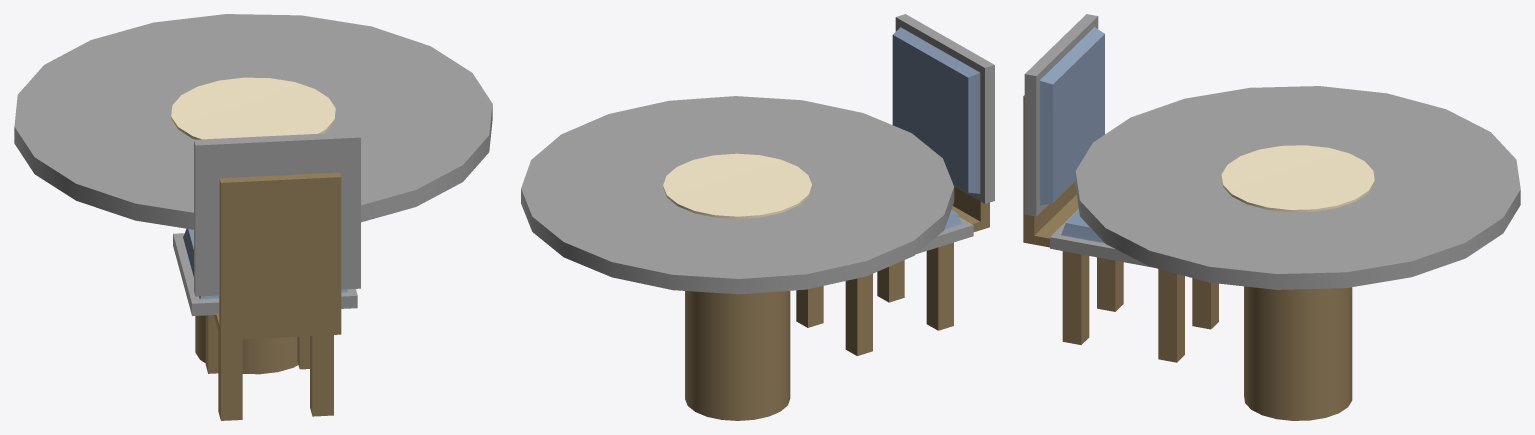
File: M_Mesa de Comedor.fbx
3 views of the same model, side by side, from view 1: azimuth 30°, elevation 25°; view 2: azimuth 150°, elevation 25°; view 3: azimuth 270°, elevation 25° (orthographic). The views are drawn at different scales.
Visible parts, largest first — view 1: pCylinder5, pCube38, Silla_comedor, pCube41, pCube36, pCube40, pCube42; view 2: pCylinder5, Silla_comedor, pCube41, pCube42, pCube39, pCube38, pCube40, pCube36; view 3: pCylinder5, Silla_comedor, pCube40, pCube39, pCube38, pCube36, pCube41, pCube42.
Part boxes in pixels (<box>): pCylinder5: <box>14,14,492,374</box>; pCube38: <box>214,172,341,340</box>; Silla_comedor: <box>194,131,360,296</box>; pCube41: <box>218,332,242,420</box>; pCube36: <box>173,228,357,315</box>; pCube40: <box>310,335,333,416</box>; pCube42: <box>205,315,218,373</box>; pCylinder5: <box>521,96,954,420</box>; Silla_comedor: <box>892,14,994,203</box>; pCube41: <box>926,242,953,330</box>; pCube42: <box>845,274,872,355</box>; pCube39: <box>796,286,823,327</box>; pCube38: <box>951,186,989,231</box>; pCube40: <box>877,260,904,302</box>; pCube36: <box>917,209,973,253</box>; pCylinder5: <box>1075,86,1520,420</box>; Silla_comedor: <box>1024,14,1104,216</box>; pCube40: <box>1062,251,1089,344</box>; pCube39: <box>1158,269,1184,362</box>; pCube38: <box>1023,95,1078,247</box>; pCube36: <box>1050,209,1152,267</box>; pCube41: <box>1097,257,1123,311</box>; pCube42: <box>1192,278,1218,329</box>.
Size of the model in its own units: 25.82 by 19.62 by 28.86.
